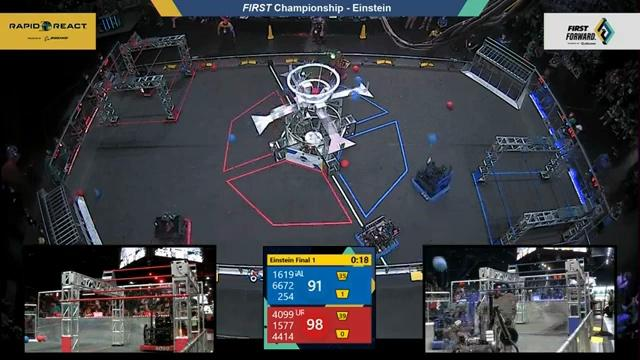robot: (351, 213, 402, 259), (411, 158, 455, 203), (141, 300, 174, 353), (152, 214, 192, 247), (132, 66, 159, 97)
